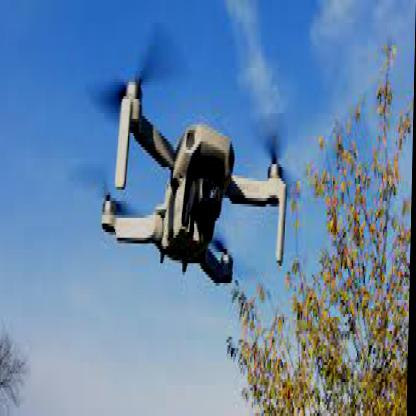UAS: (103, 56, 289, 287)
